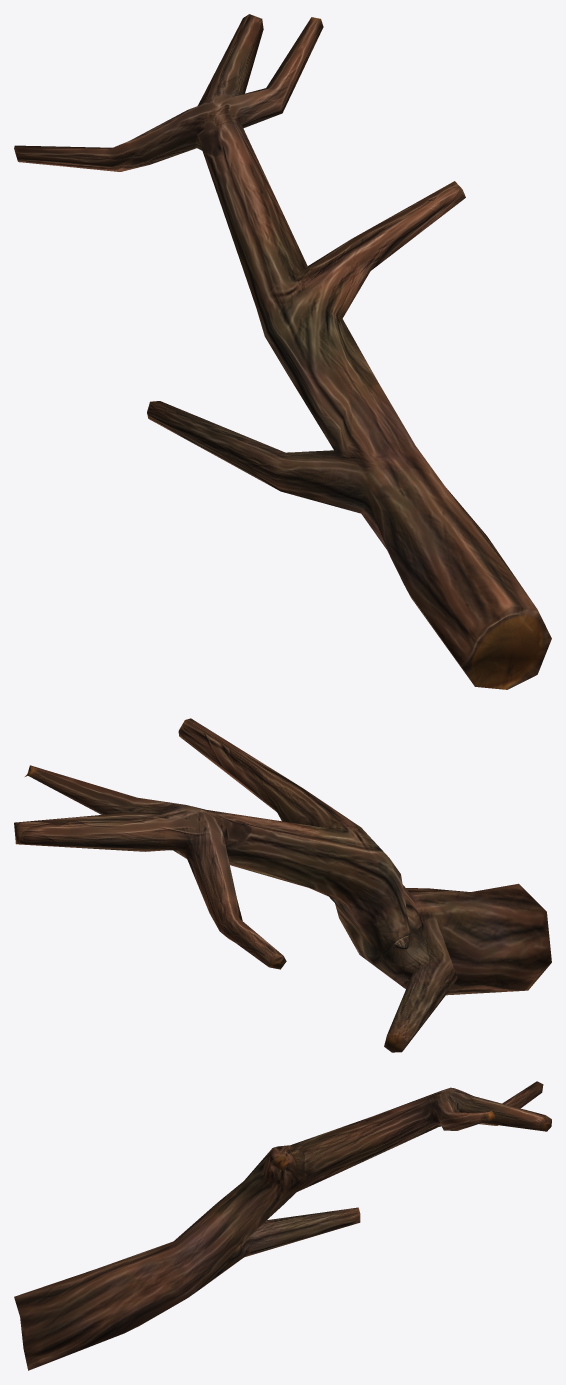
File: TreeBranch.FBX
3 renders of one model, top to bottom at view 1: azimuth 30°, elevation 25°; view 2: azimuth 150°, elevation 25°; view 3: azimuth 270°, elevation 25°, orthographic. The views are drawn at different scales.
Visible parts, largest first — view 1: default; view 2: default; view 3: default.
Boxes of the visible parts, bbox=[...] form: default: bbox=[14, 14, 551, 689]; default: bbox=[14, 718, 551, 1052]; default: bbox=[14, 1081, 551, 1370].
Bounding box in the file's own units: 6.28 × 9 × 14.6.
